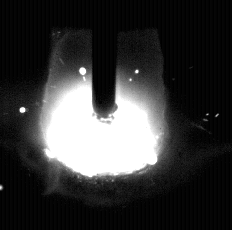arame: (92, 0, 117, 119)
poca: (38, 0, 167, 230)
